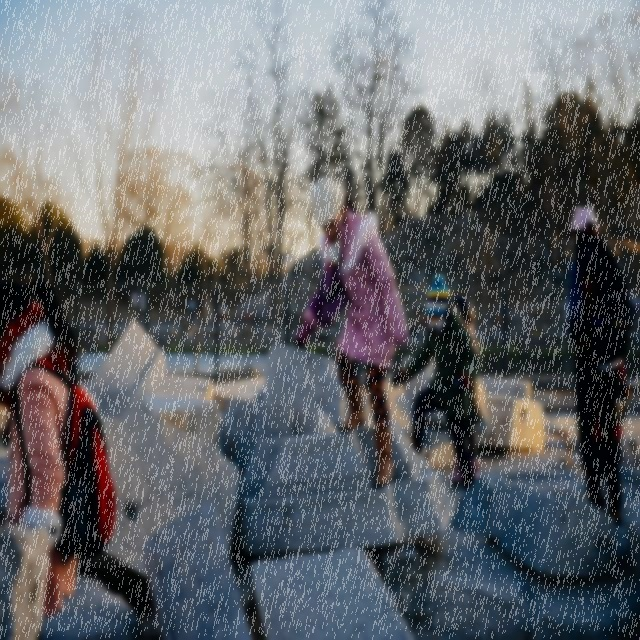pessoa: (291, 173, 414, 492), (562, 201, 634, 527), (390, 272, 483, 494), (450, 295, 487, 487), (592, 358, 630, 487), (186, 294, 197, 327), (217, 301, 229, 323)
